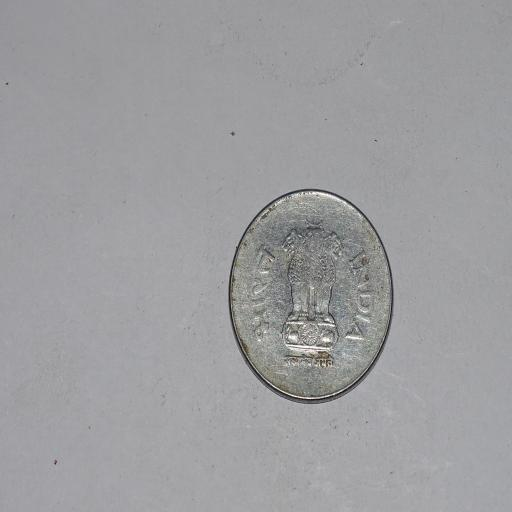rupee1: (223, 189, 394, 408)
